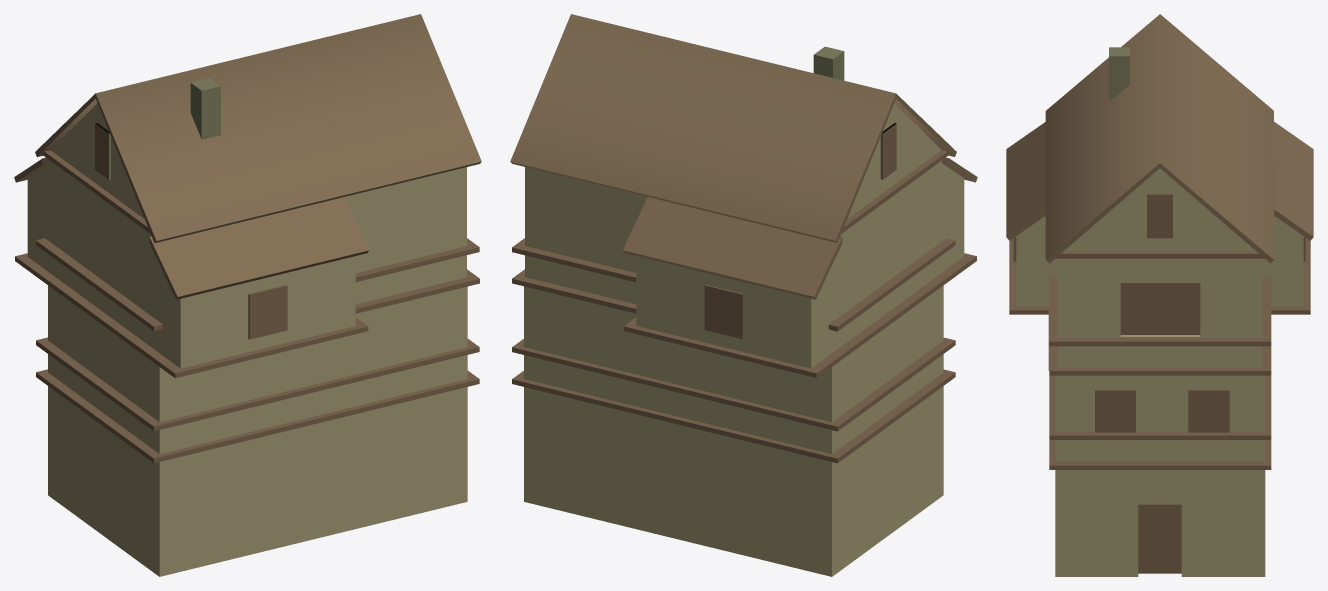
The model's file is Traven.fbx.
The picture shows the model from 3 angles, left to right: view 1: azimuth 30°, elevation 25°; view 2: azimuth 150°, elevation 25°; view 3: azimuth 270°, elevation 25°; orthographic projection. The views are drawn at different scales.
Visible parts, largest first — view 1: Object.014, Object.006, Object.008, Object.018, Object.010, Object.017, Object.012, Object.003, Object.001, Object.015, Object.011, Object.007 (+2 smaller); view 2: Object.014, Object.006, Object.008, Object.015, Object.010, Object.016, Object.003, Object.012, Object.001, Object.018, Object.013, Object.005 (+2 smaller); view 3: Object.014, Object.010, Object.006, Object.008, Object.018, Object.016, Object.017, Object.015, Object.001, Object.012, Object.003, Object.009 (+4 smaller).
Boxes of the visible parts, <box> form: Object.014: <box>35,14,481,243</box>; Object.006: <box>48,386,467,576</box>; Object.008: <box>48,285,467,453</box>; Object.018: <box>150,167,479,378</box>; Object.010: <box>40,103,479,362</box>; Object.017: <box>149,197,369,299</box>; Object.012: <box>36,337,479,431</box>; Object.003: <box>36,369,479,463</box>; Object.001: <box>36,238,479,331</box>; Object.015: <box>15,163,49,279</box>; Object.011: <box>248,285,287,339</box>; Object.007: <box>190,78,220,139</box>; Object.014: <box>510,14,956,242</box>; Object.006: <box>524,386,943,576</box>; Object.008: <box>524,285,943,453</box>; Object.015: <box>512,167,842,377</box>; Object.010: <box>512,103,955,358</box>; Object.016: <box>623,197,842,299</box>; Object.003: <box>512,369,955,463</box>; Object.012: <box>512,337,955,431</box>; Object.001: <box>512,238,955,331</box>; Object.018: <box>942,163,976,275</box>; Object.013: <box>704,284,743,339</box>; Object.005: <box>841,150,949,233</box>; Object.014: <box>1045,14,1274,263</box>; Object.010: <box>1049,168,1271,375</box>; Object.006: <box>1055,470,1265,576</box>; Object.008: <box>1055,375,1265,461</box>; Object.018: <box>1009,216,1057,370</box>; Object.016: <box>1274,122,1313,240</box>; Object.017: <box>1006,122,1045,240</box>; Object.015: <box>1262,216,1310,370</box>; Object.001: <box>1049,276,1271,346</box>; Object.012: <box>1049,375,1271,439</box>; Object.003: <box>1049,440,1271,469</box>; Object.009: <box>1188,389,1229,432</box>.
Bounding box in the file's own units: 4823 × 6332 × 4194.
